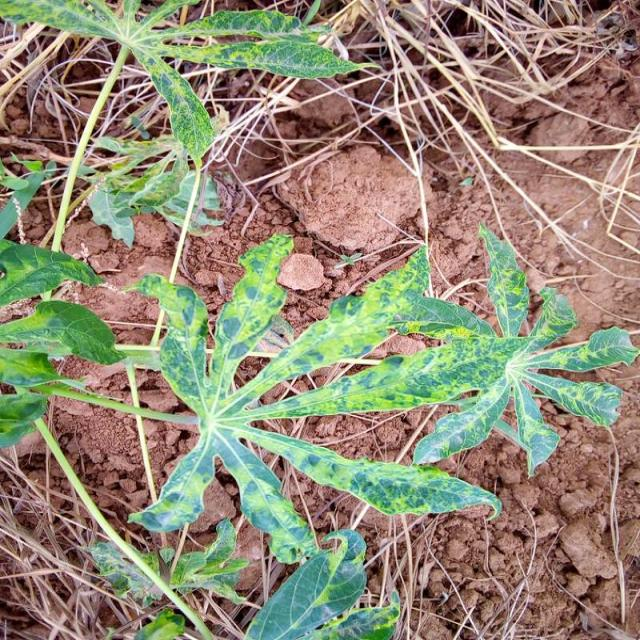cassava leaf: (122, 231, 504, 564)
